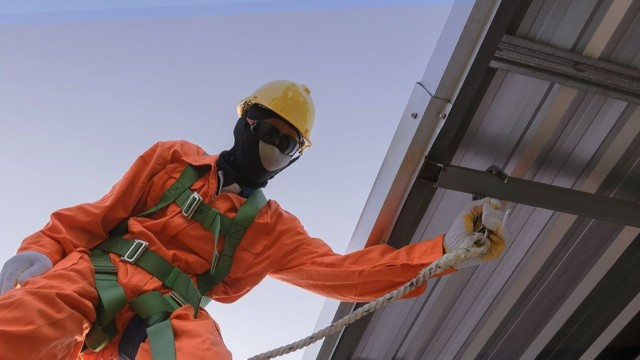With Helmet: (228, 75, 325, 190)
